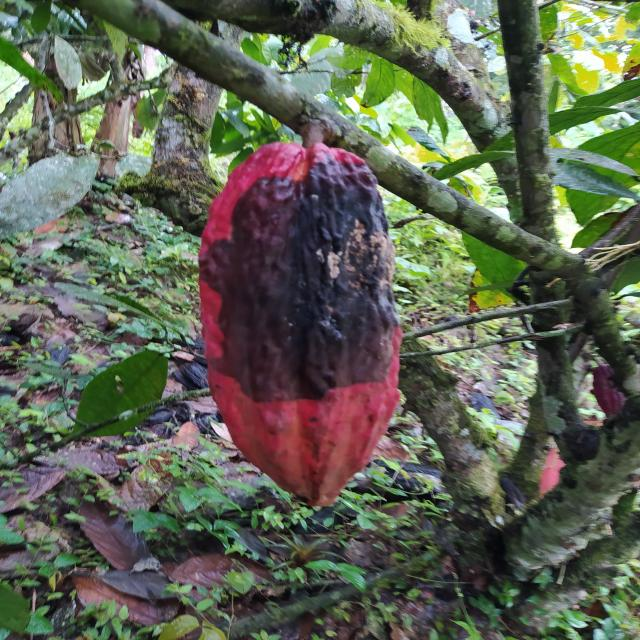Fitoftora: (197, 140, 405, 508)
